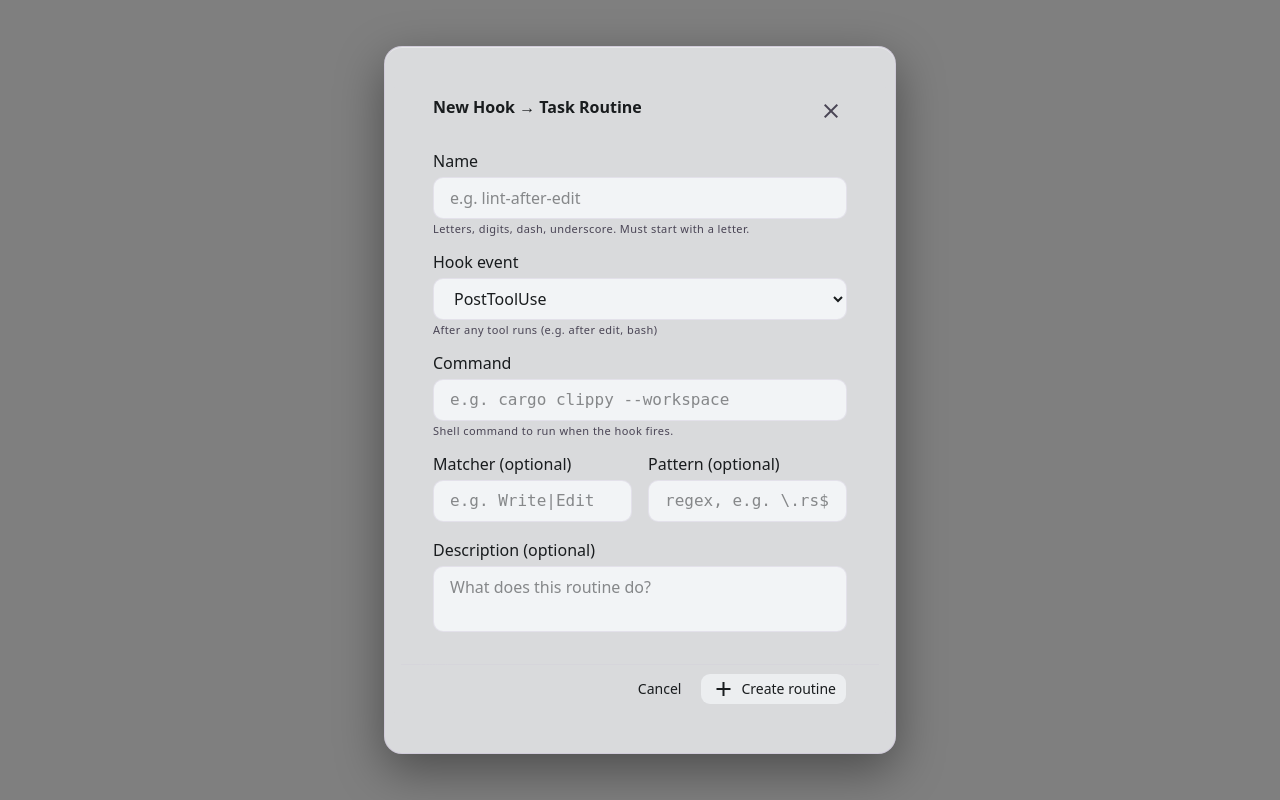
Test: HookRoutineCreateDialog › shows backend error when create fails
Type "lint-after-edit" into the field with placeholder "e.g. lint-after-edit" at (640, 198), box [433,177,847,219]
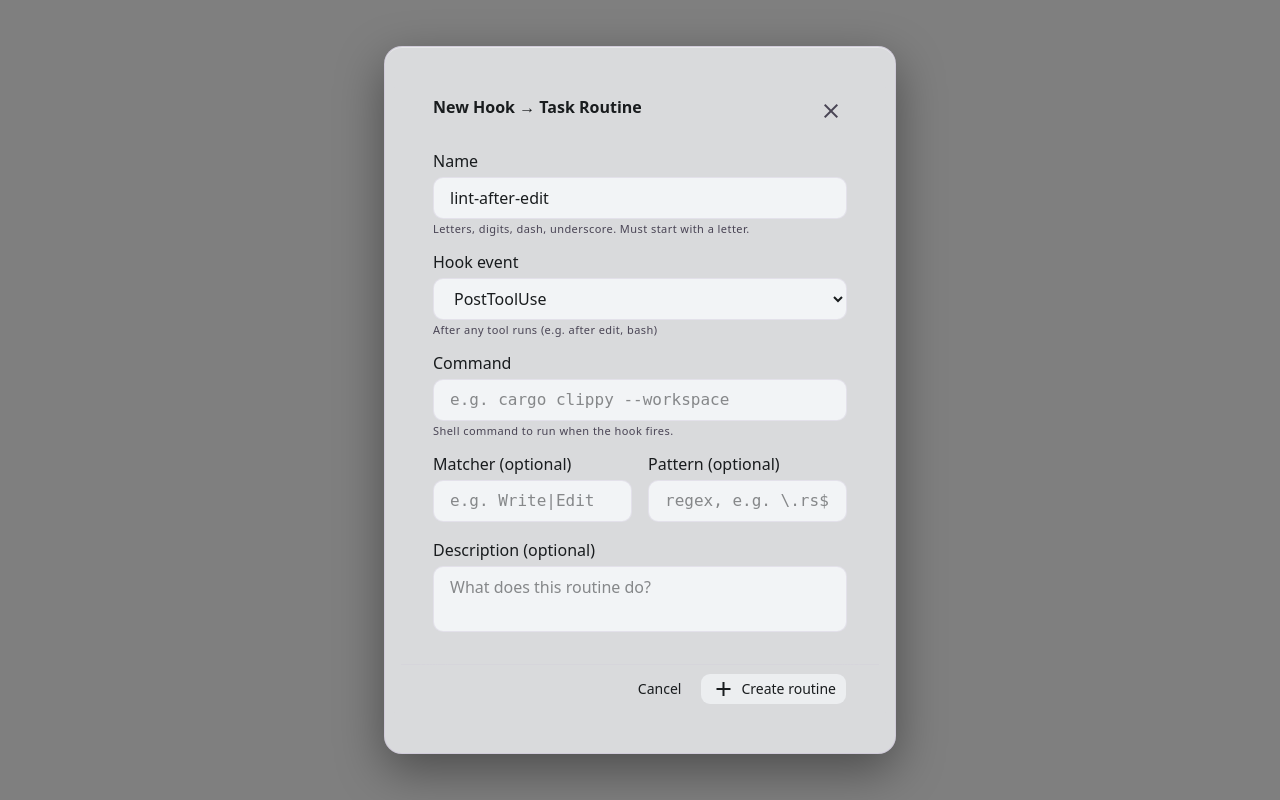
Type "just lint" into the field with placeholder "e.g. cargo clippy --workspace" at (640, 400), box [433,379,847,421]
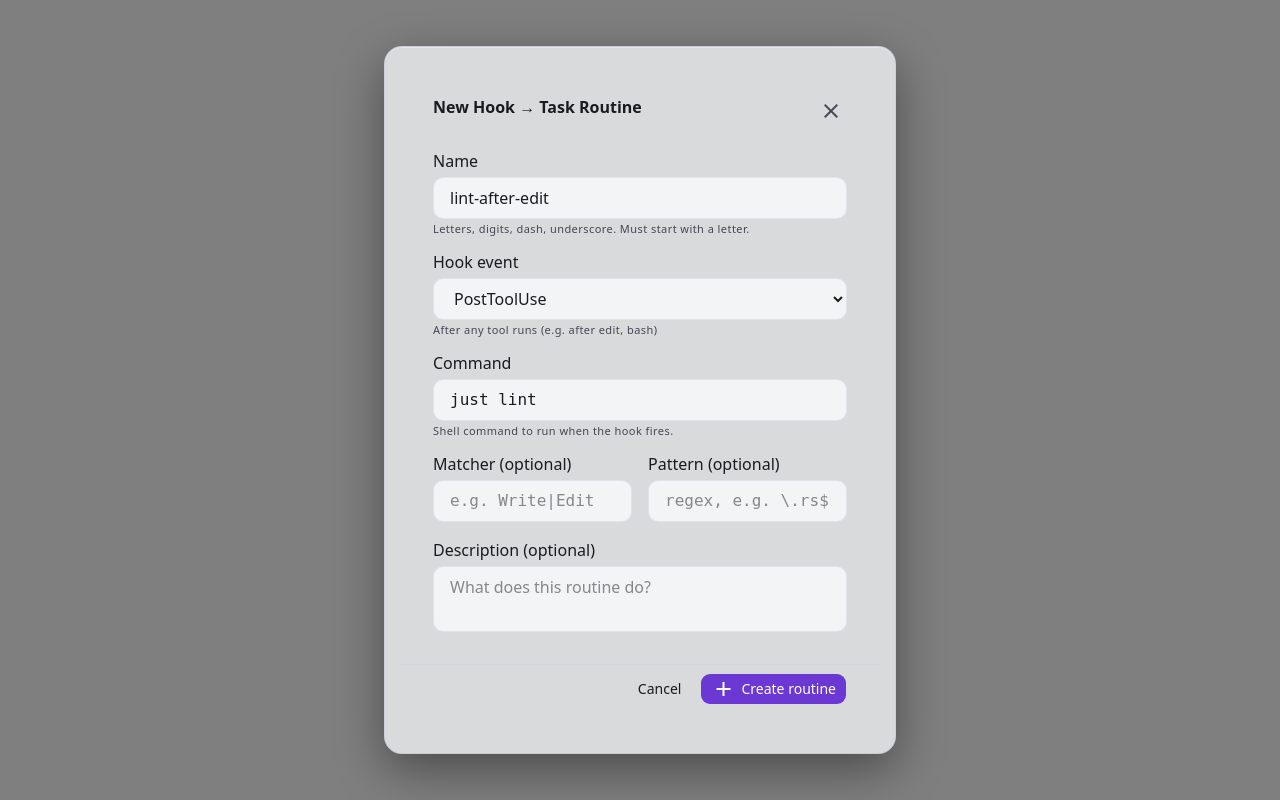
Click the button "Create routine" at (774, 689), box [700,673,847,705]
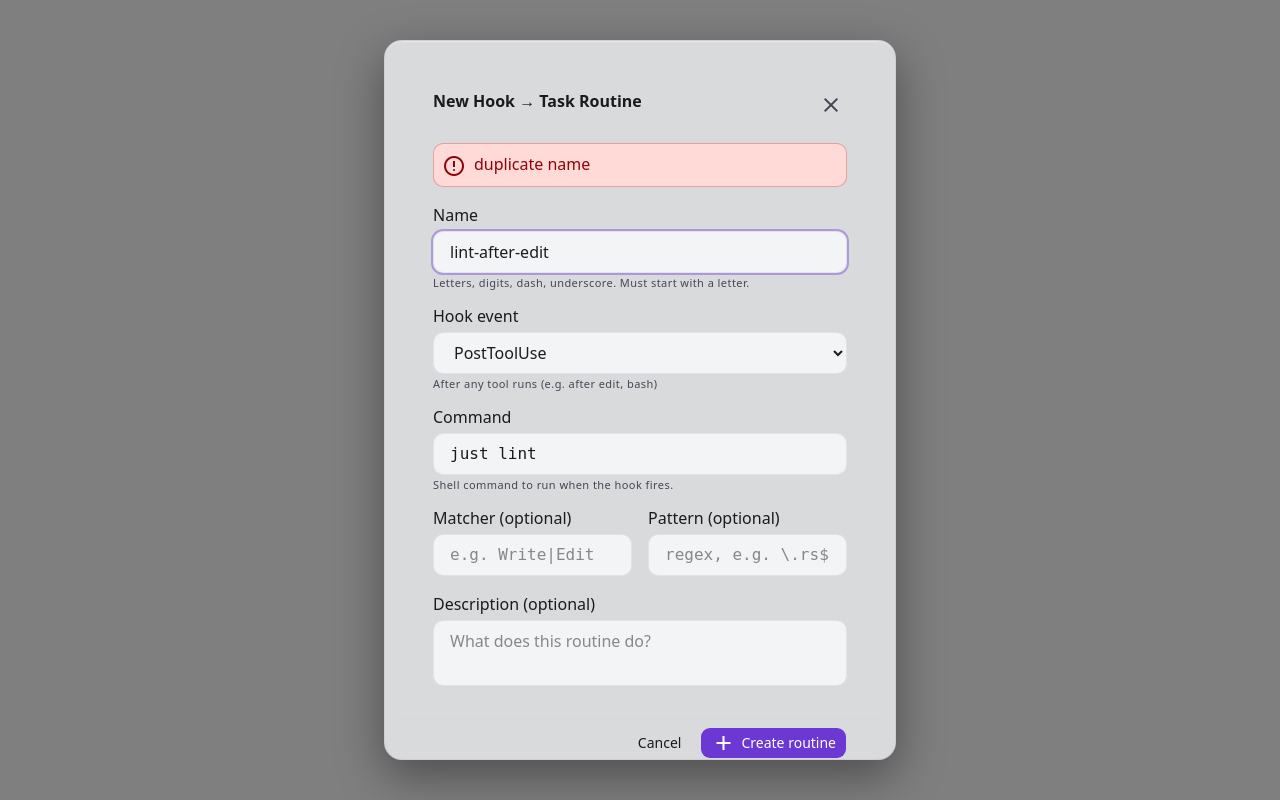
Expected: the text "duplicate name" is shown, [474,153,590,175]
